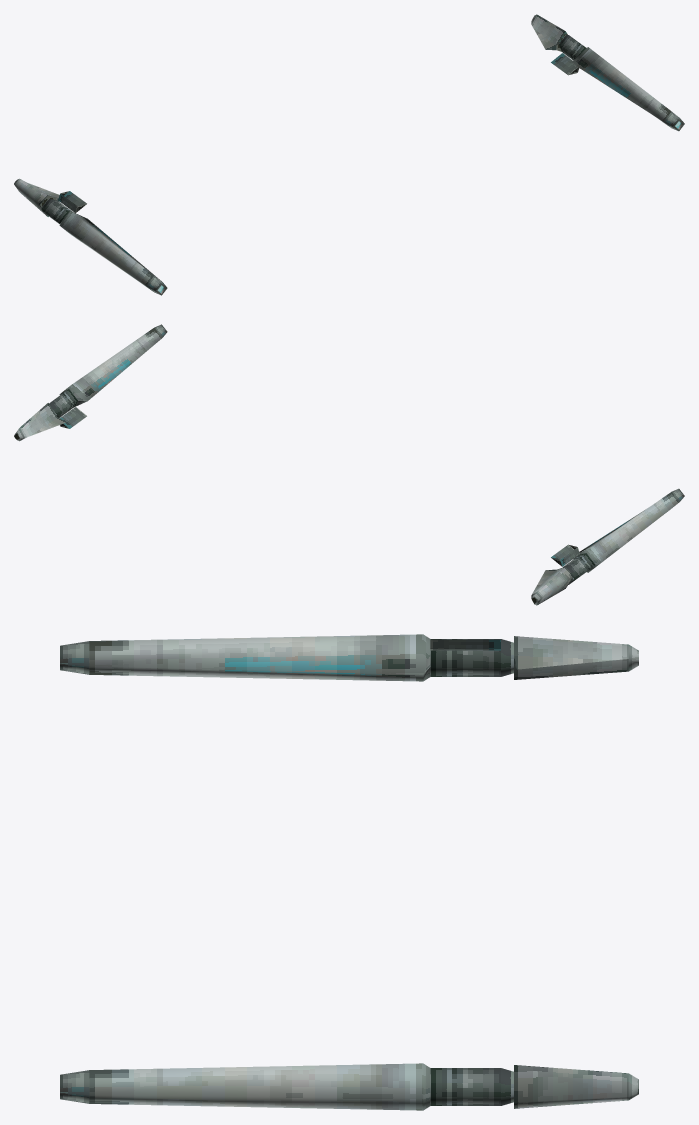
File: xwing_weapon1_neg_s02_l2.fbx
3 views of the same model, one above another, from view 1: azimuth 30°, elevation 25°; view 2: azimuth 150°, elevation 25°; view 3: azimuth 270°, elevation 25° (orthographic). The views are drawn at different scales.
Parts seen in each view (by area): view 1: mesh_node; view 2: mesh_node; view 3: mesh_node.
Part boxes in pixels (<box>): mesh_node: <box>14,14,684,295</box>; mesh_node: <box>14,324,684,605</box>; mesh_node: <box>60,634,638,1110</box>.
Size of the model in its own units: 13.95 by 1.52 by 6.48.
1 material, 1 textured.
